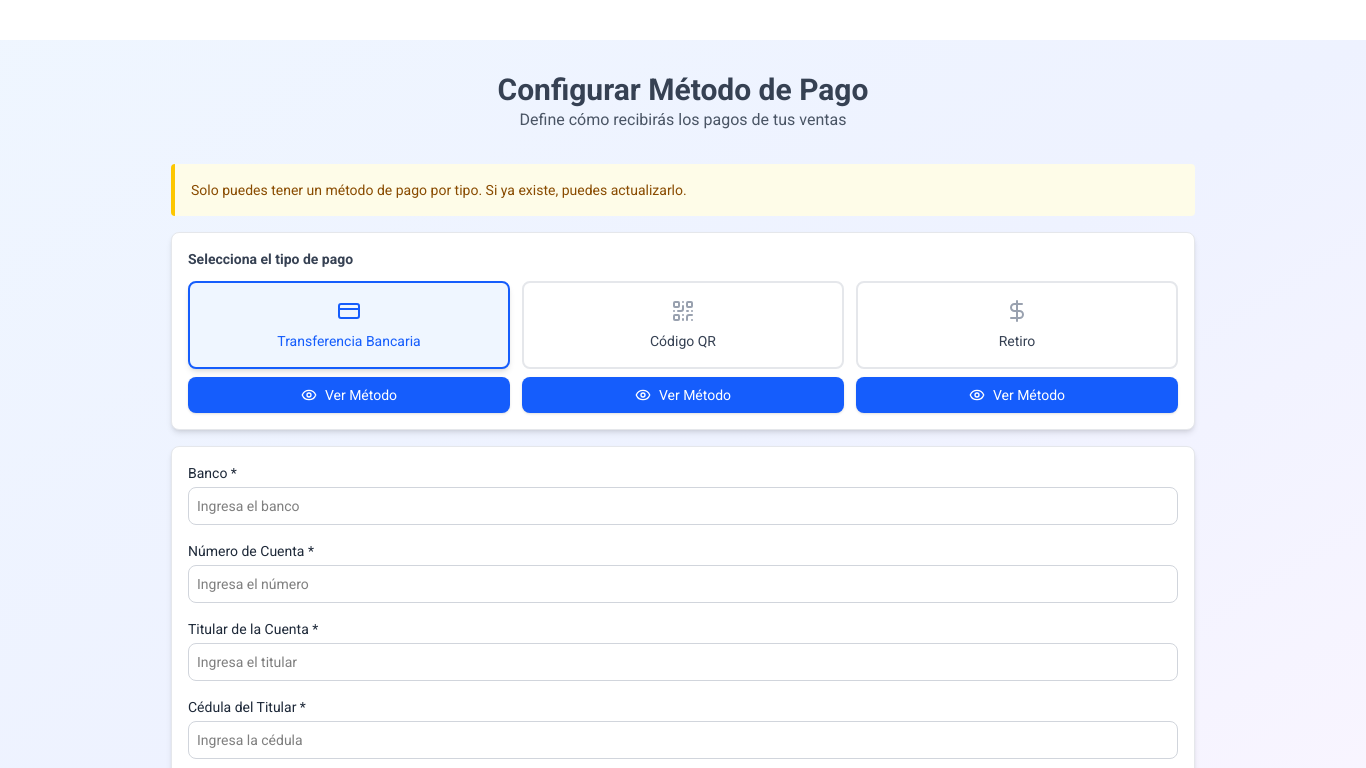
Test: MetodoPago - Vendedor › Seleccionar tipo muestra el formulario correspondiente
The width and height of the screenshot is (1366, 768).
Check: the field with placeholder "Ingresa el banco" is shown, box [188,487,1178,525]
// Seleccionar Código QR y comprobar que aparece input file
Click the button "Código QR".
click(683, 325)  # box [522,281,844,369]
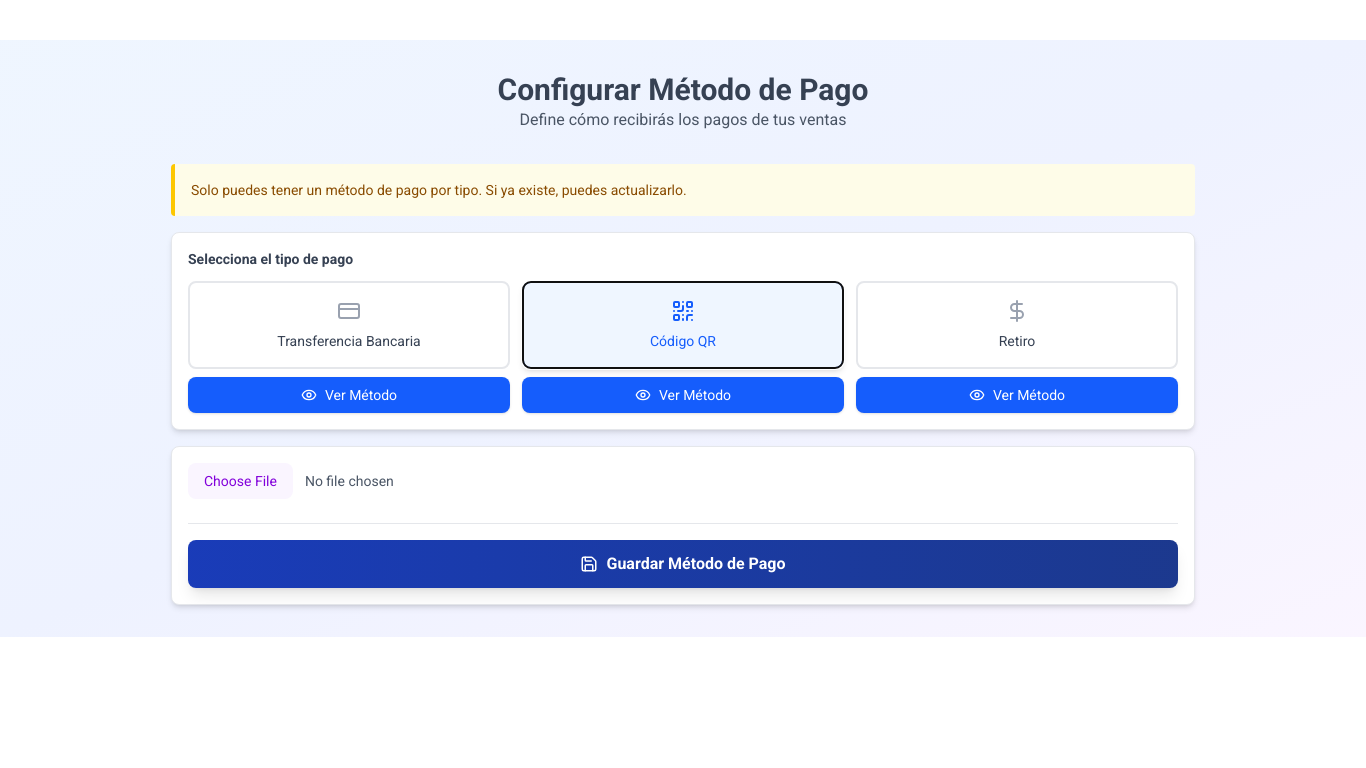
Check: the file field is shown, box [188,463,1178,499]
